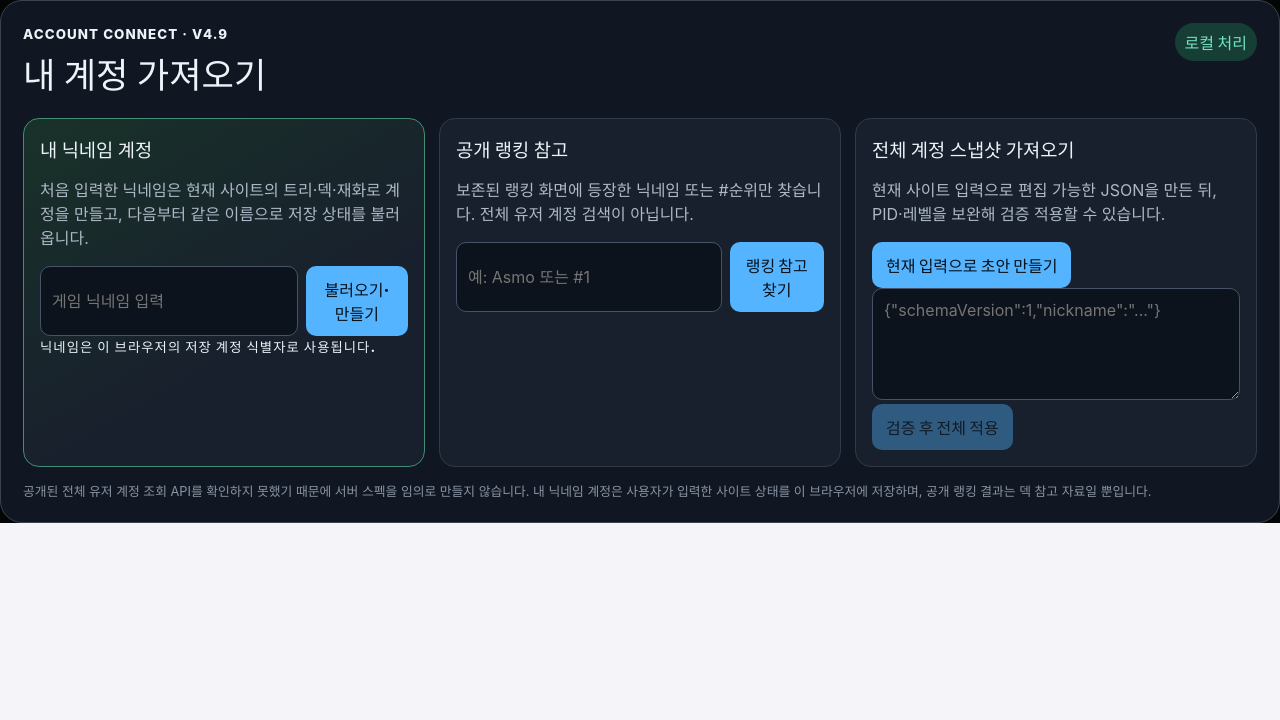
Test: AccountImportPanelV49 › creates or reloads any nickname as a browser account
In the field named "내 계정 닉네임": x=169, y=301 top-left (40, 266), bottom-right (298, 336), type "랭킹에 없는 사용자"
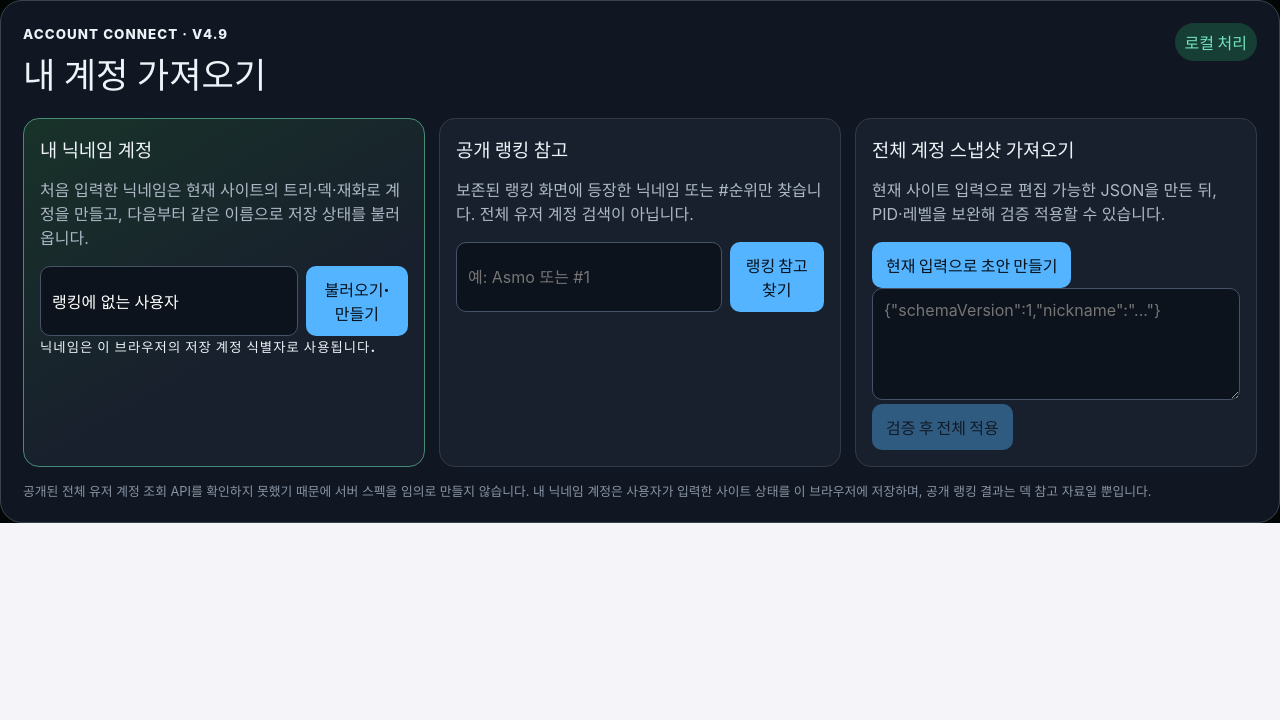
Click the button "불러오기·만들기": x=357, y=301 top-left (306, 266), bottom-right (408, 336)
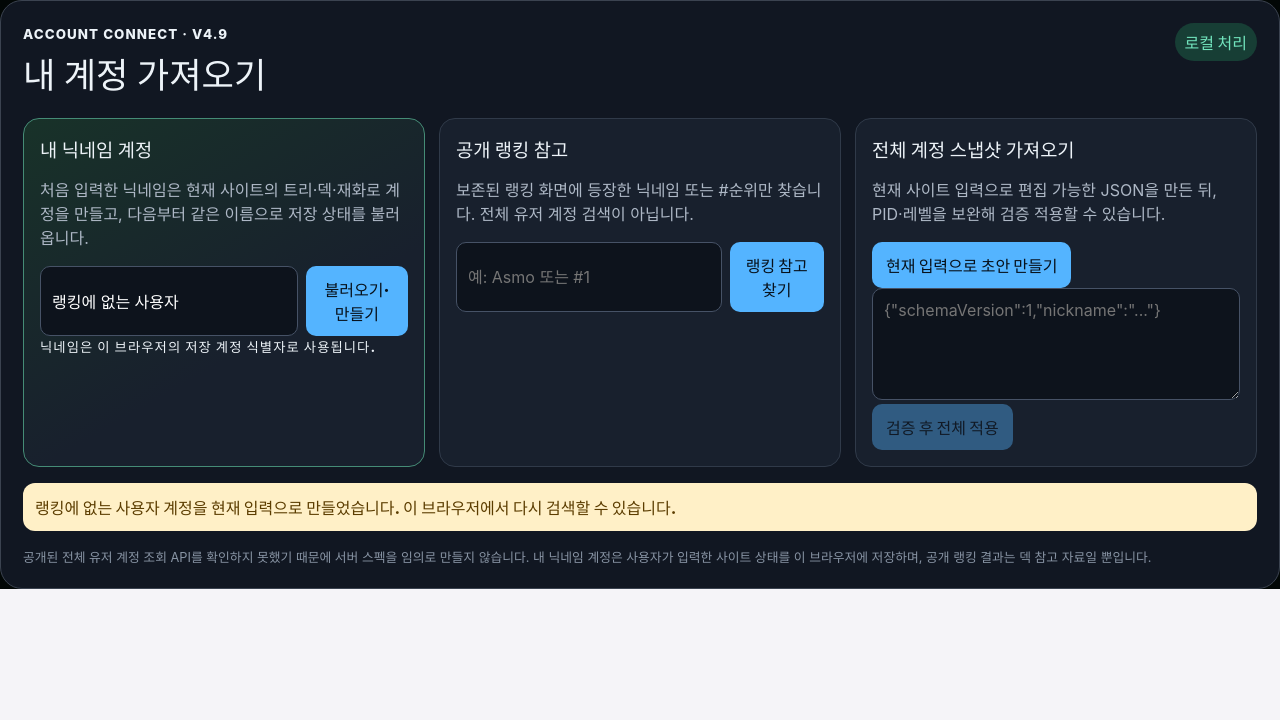
Now the message shows "현재 입력으로 만들었습니다", box top-left (35, 498), bottom-right (676, 518)
